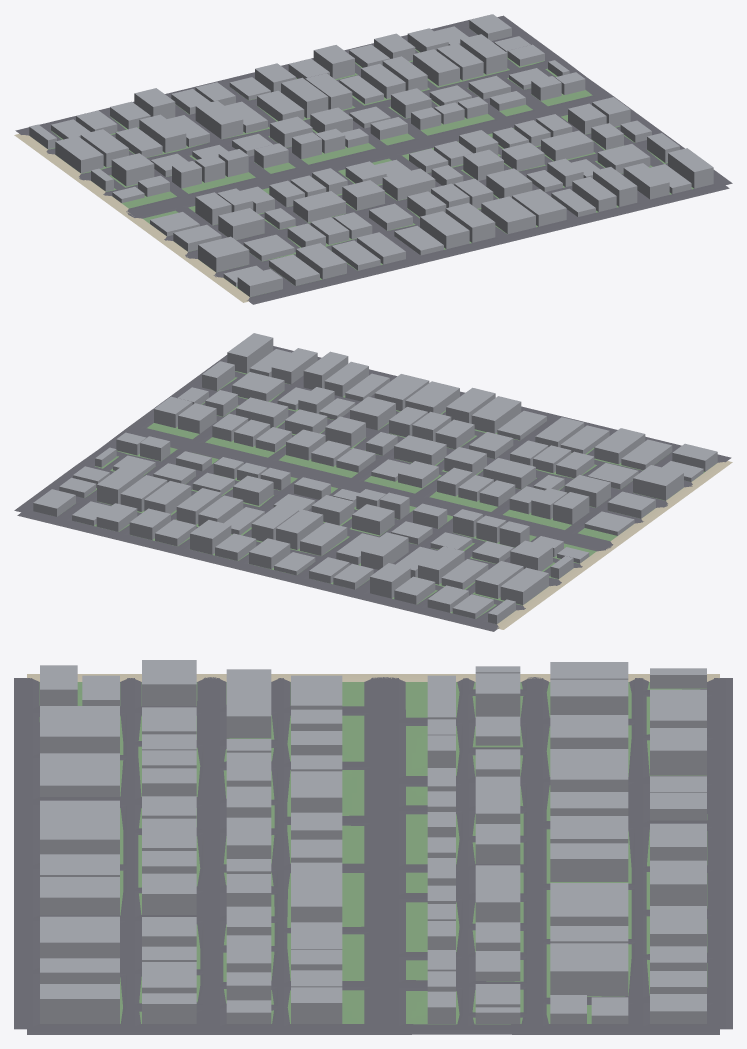
3 views of the same model, one above another, from view 1: azimuth 30°, elevation 25°; view 2: azimuth 150°, elevation 25°; view 3: azimuth 270°, elevation 25° (orthographic). The views are drawn at different scales.
Visible parts, largest first — view 1: buildings, roads-tarmac, terrain, roads-gravel; view 2: buildings, roads-tarmac, terrain, roads-gravel; view 3: buildings, roads-tarmac, terrain, roads-gravel.
Part boxes in pixels (bbox=[...]): buildings: bbox=[29, 14, 713, 296]; roads-tarmac: bbox=[15, 15, 732, 304]; terrain: bbox=[38, 49, 693, 296]; roads-gravel: bbox=[14, 133, 249, 302]; buildings: bbox=[33, 333, 717, 624]; roads-tarmac: bbox=[14, 346, 731, 631]; terrain: bbox=[61, 371, 715, 618]; roads-gravel: bbox=[497, 461, 732, 629]; buildings: bbox=[40, 660, 706, 1023]; roads-tarmac: bbox=[14, 677, 732, 1034]; terrain: bbox=[39, 682, 707, 1024]; roads-gravel: bbox=[27, 674, 719, 681].
Size of the model in its own units: 740 by 24.31 by 622.
